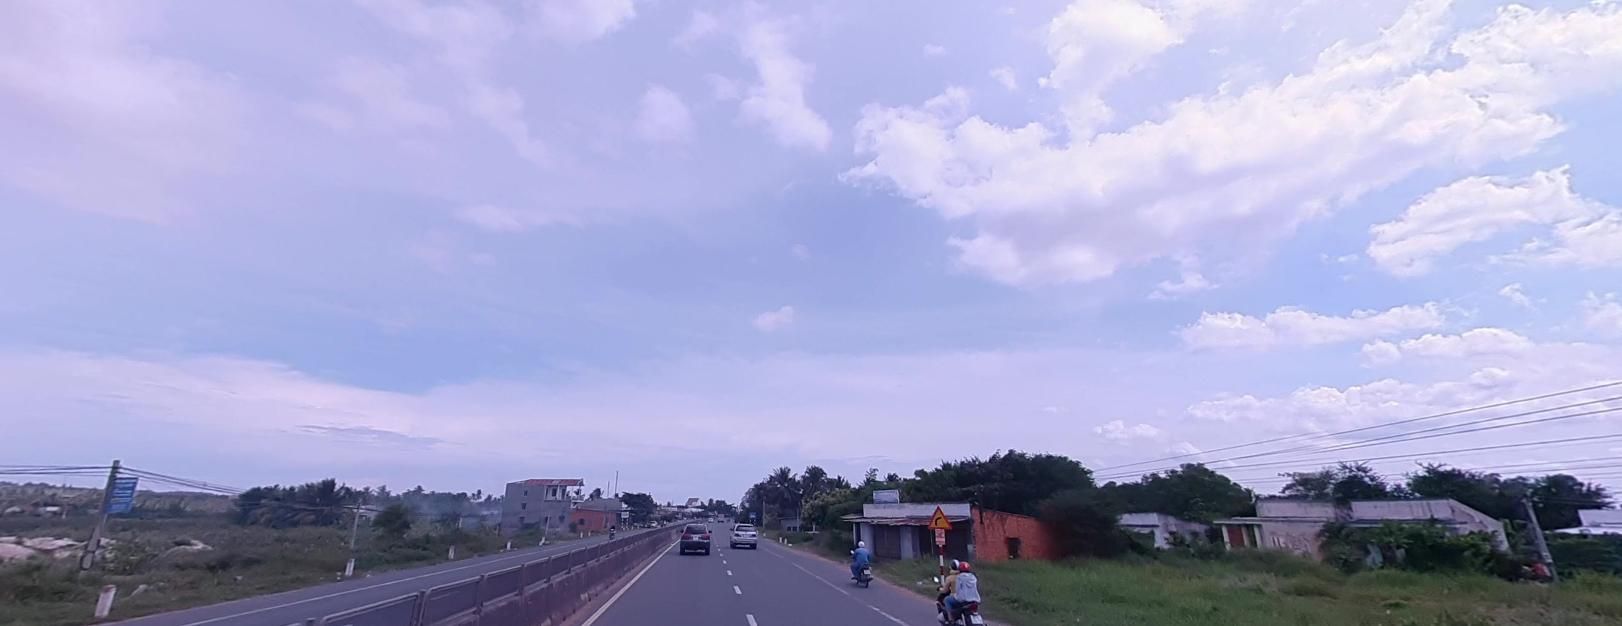Nguy hiem: (927, 503, 953, 529)
